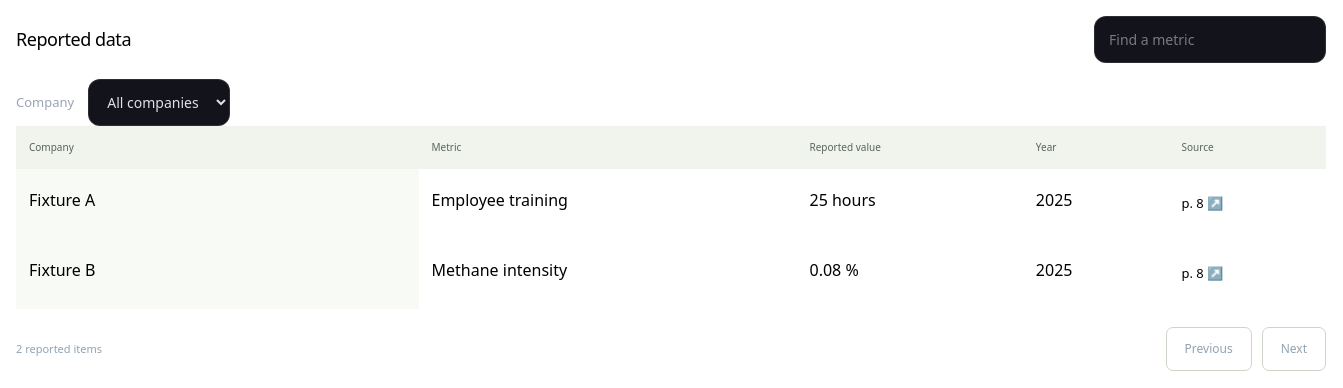
Scenario: uses the newly collected fact ledger for searchable source-linked figures
The width and height of the screenshot is (1343, 388).
Expected: the text "25 hours" is shown, [796,169,1023,239]
Type "training" into the search field named "Search reported data".
click(1210, 40); type("training")  # box [1094,16,1326,63]
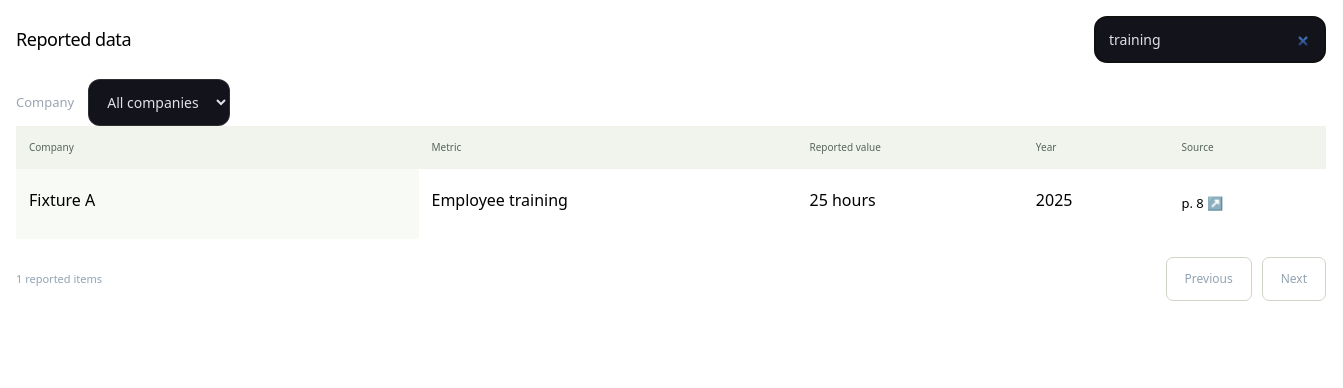
Expected: the text "Methane intensity" is gone
Click the button "p. 8 ↗".
click(1202, 204)  # box [1182,188,1223,220]
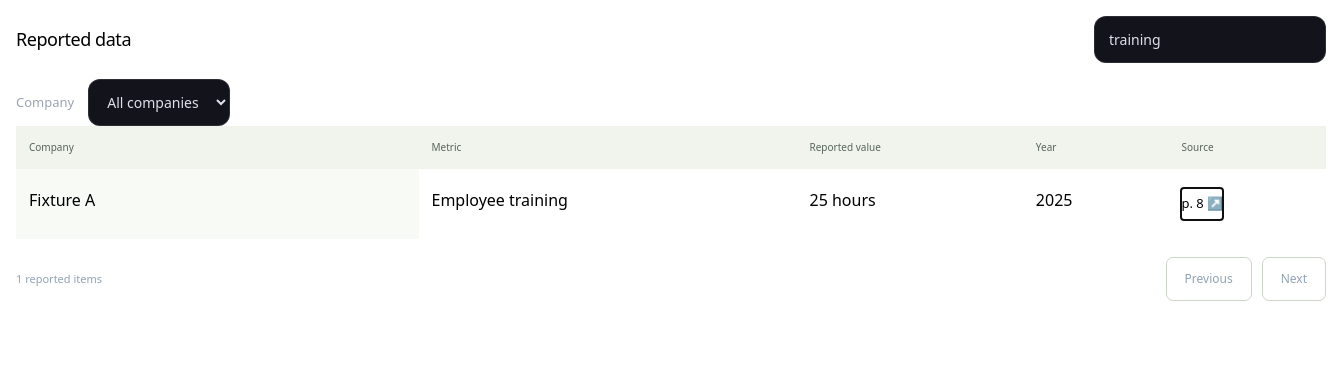
Select "Fixture B" in the dropdown named "Reported data company" at (159, 102), box [88,79,230,126]
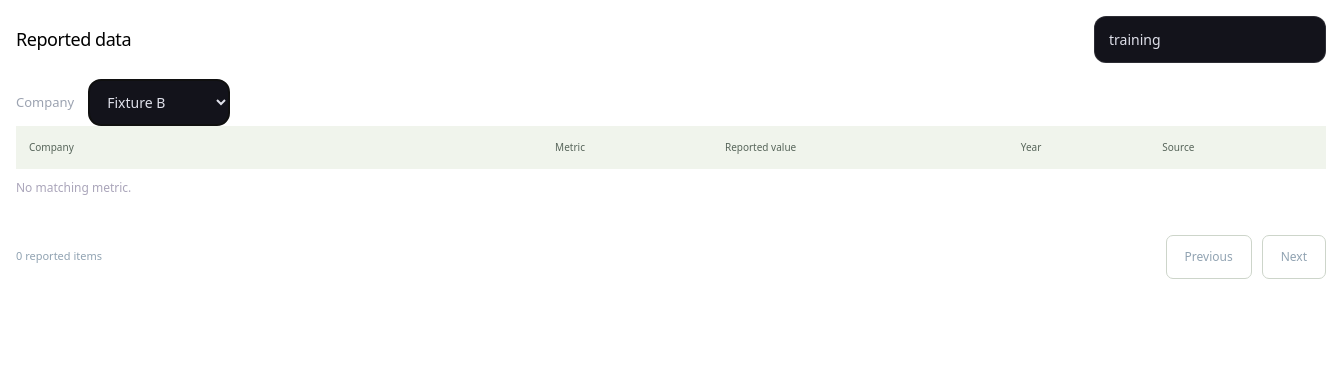
Expected: the text "No matching metric." is shown, [16,179,131,196]
